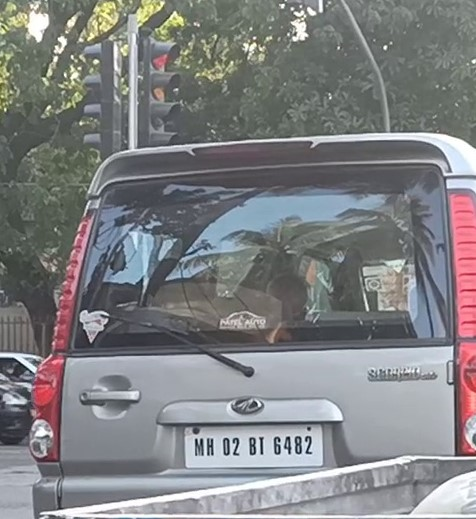MH02BT6482: (183, 423, 326, 469)
